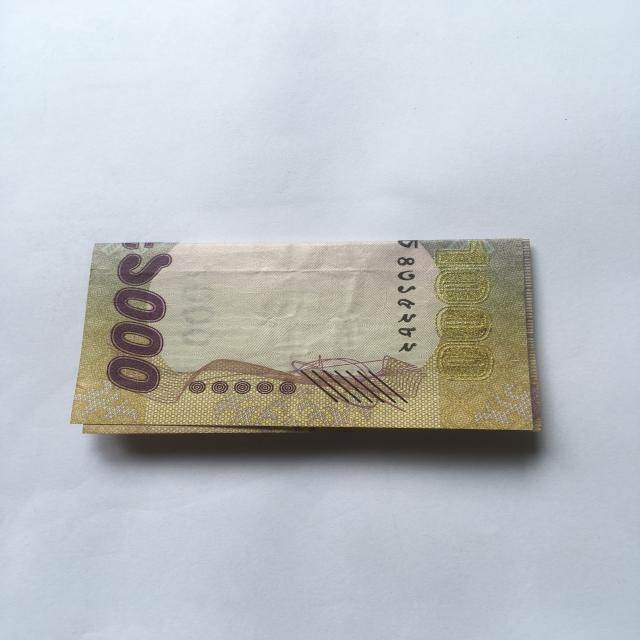Taka: (72, 236, 549, 440)
